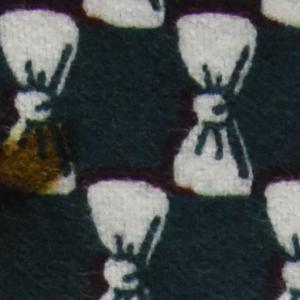Oil Stain: (2, 117, 82, 213)
